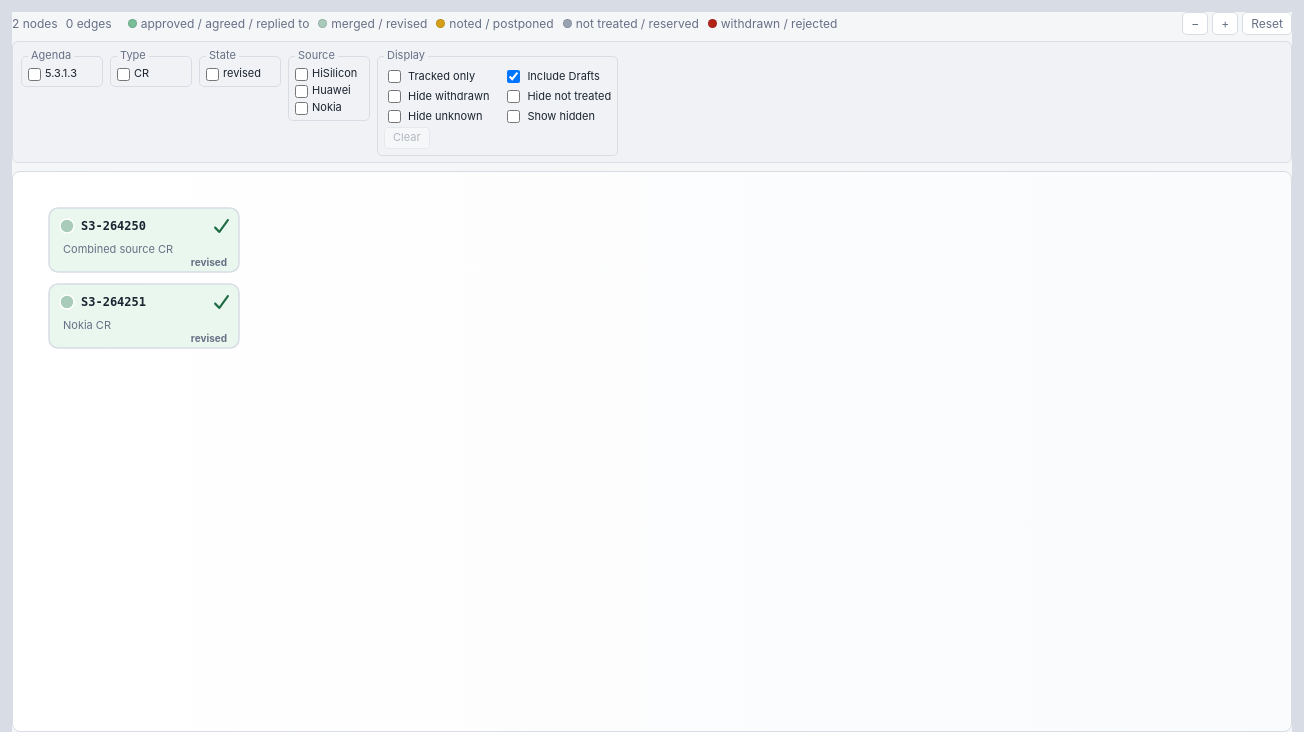
Test: LineageView › treats comma-separated sources as individual company filters
Expected: the checkbox labelled "Huawei" is shown, [295,85,308,98]
What coordinates should you click on to do the following:
click the checkbox labelled "HiSilicon"
I would click on:
 (302, 74)
Its box is [295,68,308,81].
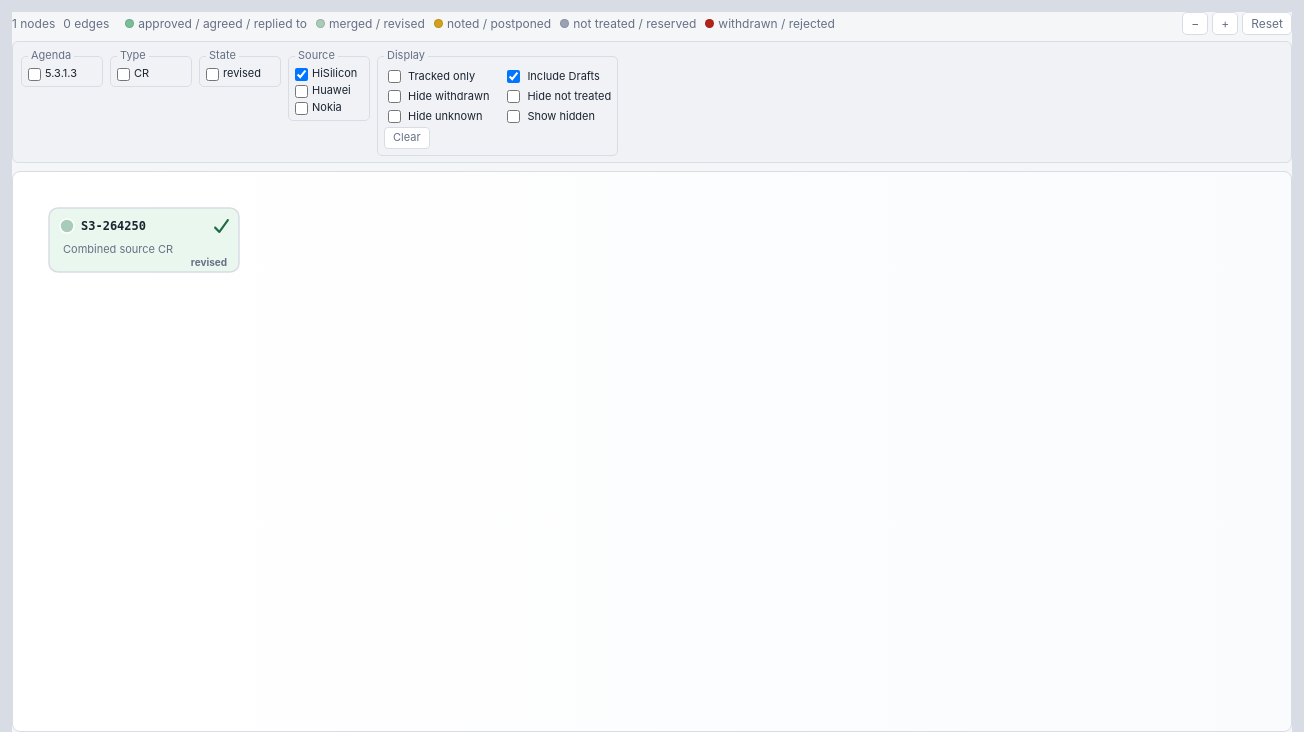
Expected: the text "Combined source CR" is shown, [63,242,173,256]
Expected: the picture "Nokia CR" is gone
What coordinates should you click on to do the following:
click the checkbox labelled "Nokia"
I would click on:
 (302, 108)
Its box is [295,102,308,115].
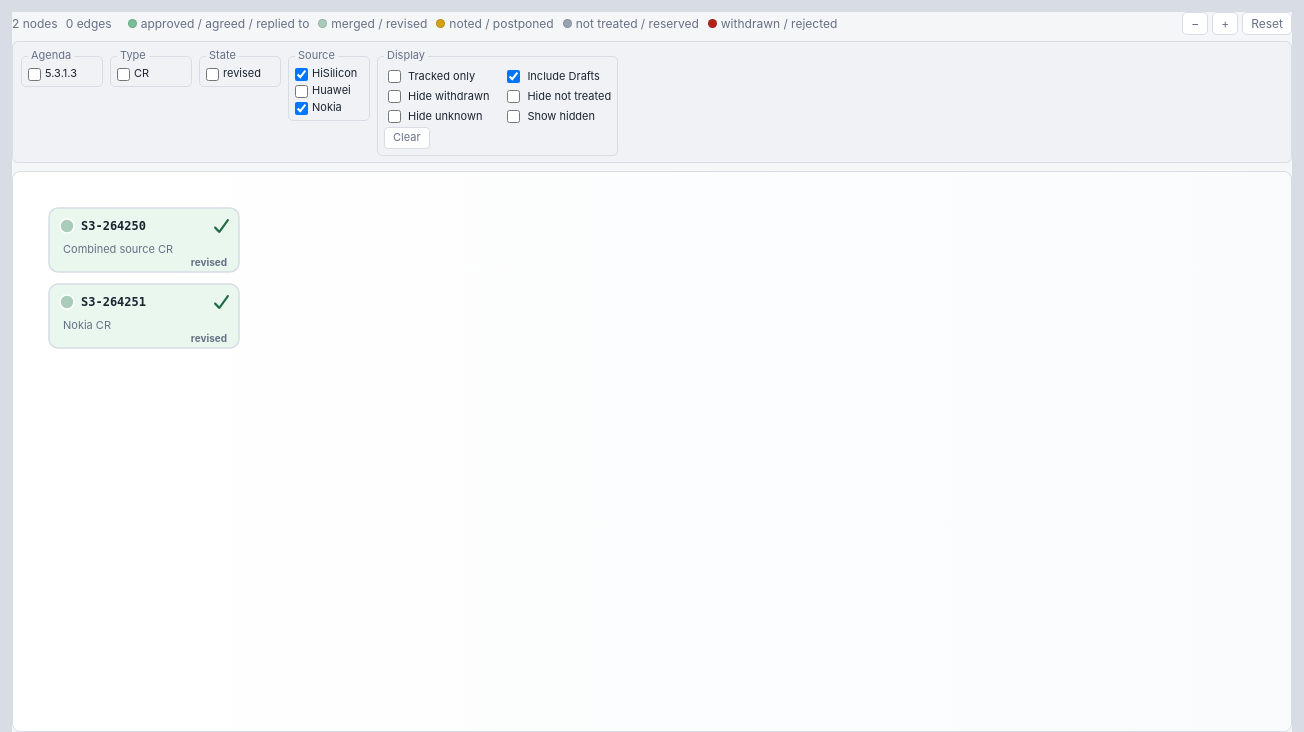
Expected: the text "Combined source CR" is shown, [63,242,173,256]
Expected: the text "Nokia CR" is shown, [63,318,111,332]
What coordinates should you click on to do the following:
click the checkbox labelled "HiSilicon"
I would click on:
 (302, 74)
Its box is [295,68,308,81].
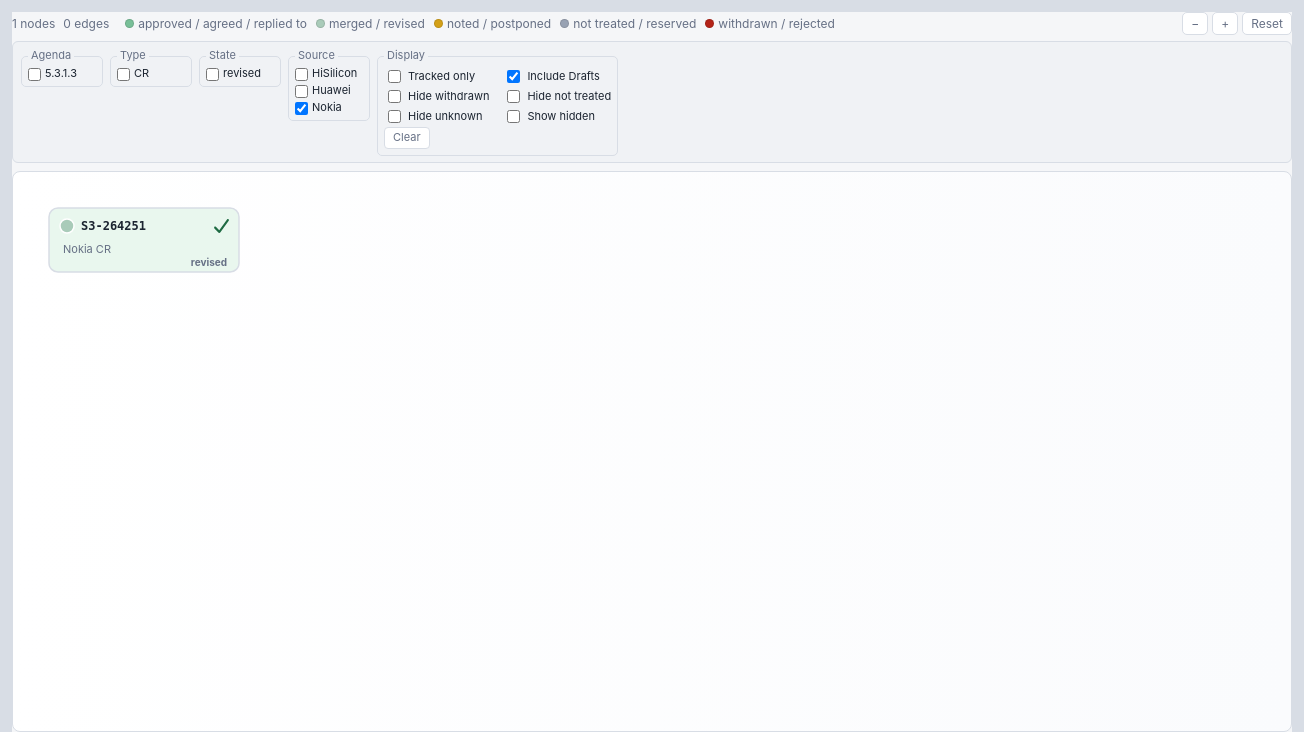
Expected: the text "Nokia CR" is shown, [63,242,111,256]
Expected: the picture "Combined source CR" is gone
